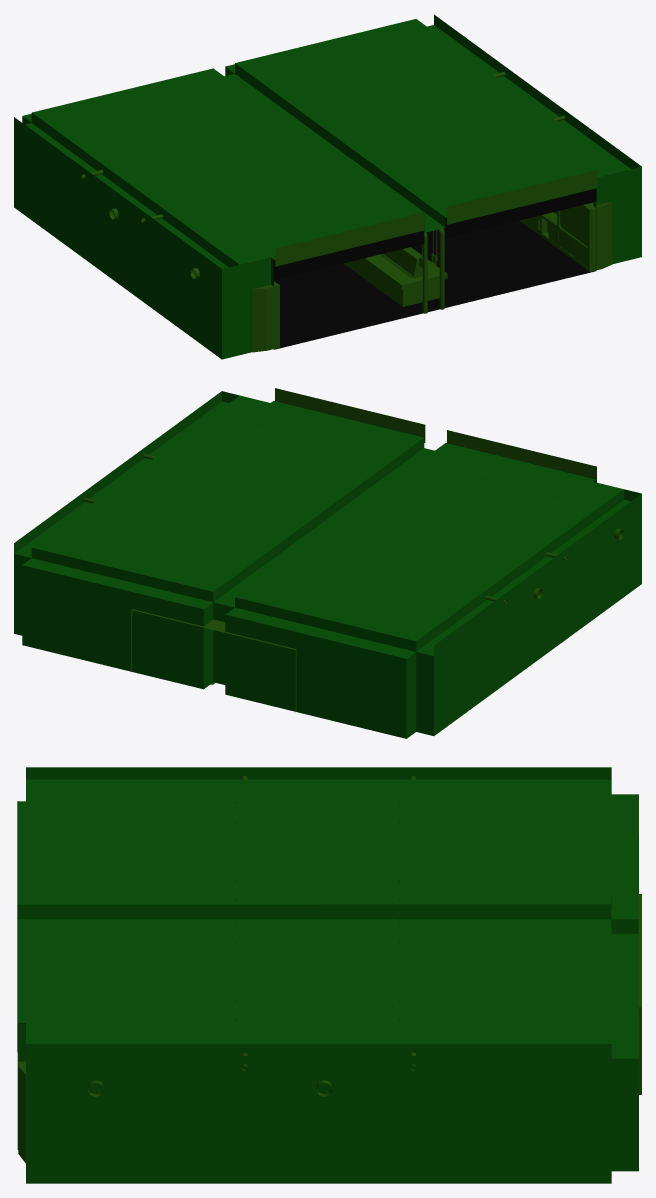
File: T2_Garage_01_InScene.fbx
The picture shows the model from 3 angles, top to bottom: view 1: azimuth 30°, elevation 25°; view 2: azimuth 150°, elevation 25°; view 3: azimuth 270°, elevation 25°; orthographic projection. The views are drawn at different scales.
Visible parts, largest first — view 1: T2_Garage_main_Base1_InScene, T2_Garage_main_Base2_InScene, T2_Garage_main_Banner_InScene; view 2: T2_Garage_main_Base1_InScene, T2_Garage_main_Banner_InScene, T2_Garage_main_Base2_InScene; view 3: T2_Garage_main_Base1_InScene, T2_Garage_main_Base2_InScene.
Boxes of the visible parts, x1,y1,x2,y2 form: T2_Garage_main_Base1_InScene: (14, 14, 641, 359); T2_Garage_main_Base2_InScene: (81, 71, 612, 352); T2_Garage_main_Banner_InScene: (275, 170, 597, 266); T2_Garage_main_Base1_InScene: (14, 391, 641, 738); T2_Garage_main_Banner_InScene: (275, 388, 596, 482); T2_Garage_main_Base2_InScene: (83, 453, 623, 711); T2_Garage_main_Base1_InScene: (17, 767, 638, 1183); T2_Garage_main_Base2_InScene: (18, 775, 641, 1163).
Bounding box in the file's own units: 7.89 × 1.86 × 7.12.
